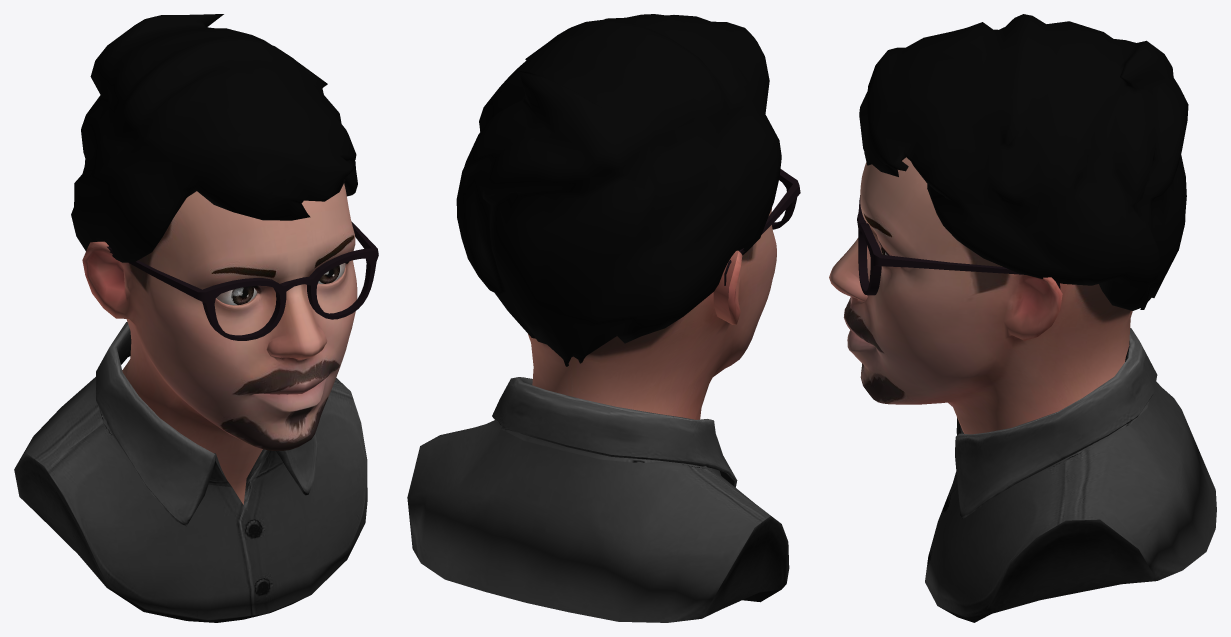
The model's file is ritesh.glb.
The picture shows the model from 3 angles, left to right: view 1: azimuth 30°, elevation 25°; view 2: azimuth 150°, elevation 25°; view 3: azimuth 270°, elevation 25°; orthographic projection. The views are drawn at different scales.
Parts seen in each view (by area): view 1: Wolf3D_Shirt, Wolf3D_Hair, Wolf3D_Head, Wolf3D_Glasses, EyeRight; view 2: Wolf3D_Hair, Wolf3D_Shirt, Wolf3D_Head, Wolf3D_Glasses; view 3: Wolf3D_Hair, Wolf3D_Shirt, Wolf3D_Head, Wolf3D_Glasses.
Part boxes in pixels (x1,y1,x2,y2): Wolf3D_Shirt: (14, 322, 367, 622); Wolf3D_Hair: (71, 14, 357, 262); Wolf3D_Head: (82, 183, 357, 504); Wolf3D_Glasses: (107, 221, 378, 340); EyeRight: (216, 286, 256, 305); Wolf3D_Hair: (456, 14, 781, 366); Wolf3D_Shirt: (407, 377, 789, 622); Wolf3D_Head: (528, 208, 776, 419); Wolf3D_Glasses: (724, 169, 800, 285); Wolf3D_Hair: (859, 14, 1188, 310); Wolf3D_Shirt: (925, 328, 1216, 622); Wolf3D_Head: (829, 157, 1132, 434); Wolf3D_Glasses: (857, 195, 1060, 295).
Size of the model in its own units: 0.2312 by 0.3893 by 0.2437.
6 materials, 6 textured.
